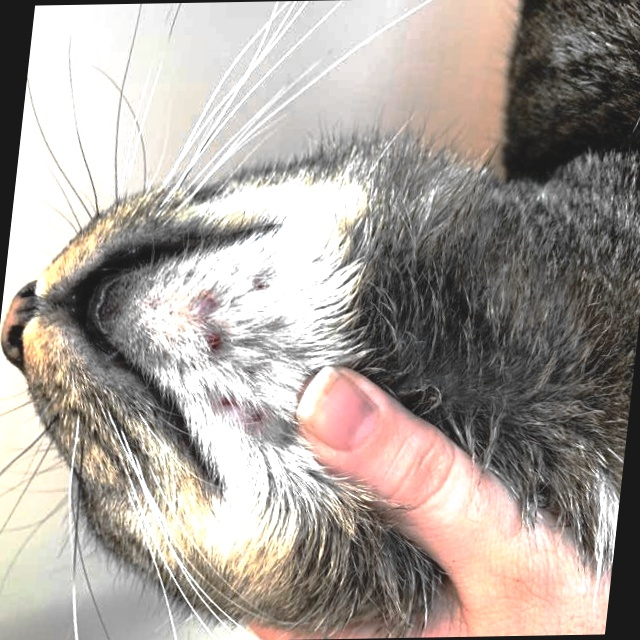acne: (182, 262, 309, 422)
